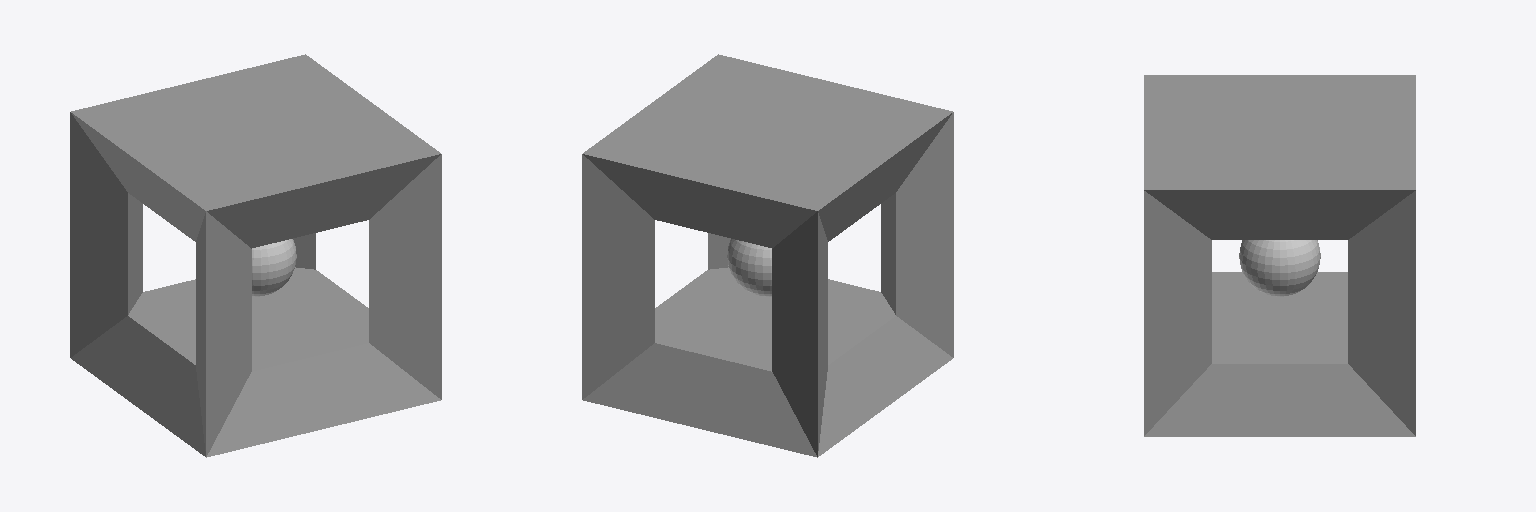
File: fluidTank1.obj
The picture shows the model from 3 angles: view 1: azimuth 30°, elevation 25°; view 2: azimuth 150°, elevation 25°; view 3: azimuth 270°, elevation 25°; orthographic projection.
Visible parts, largest first — view 1: Cube.001_Cube.000, Cube_Cube.001; view 2: Cube.001_Cube.000, Cube_Cube.001; view 3: Cube.001_Cube.000, Cube_Cube.001.
Boxes of the visible parts, box(x1,y1,x2,y2) form: Cube.001_Cube.000: box(70, 54, 441, 457); Cube_Cube.001: box(252, 239, 296, 296); Cube.001_Cube.000: box(582, 54, 953, 457); Cube_Cube.001: box(727, 239, 771, 296); Cube.001_Cube.000: box(1144, 75, 1415, 436); Cube_Cube.001: box(1239, 240, 1320, 296).
Bounding box in the file's own units: 1 × 1 × 1.